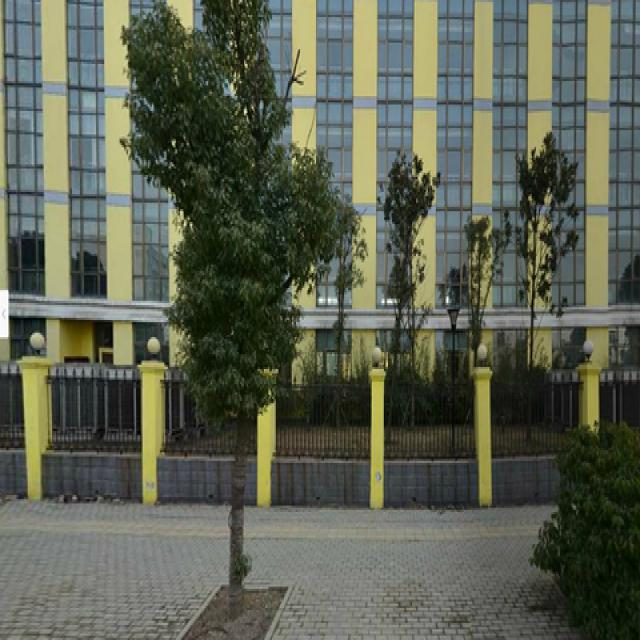cinn: (164, 19, 291, 617)
